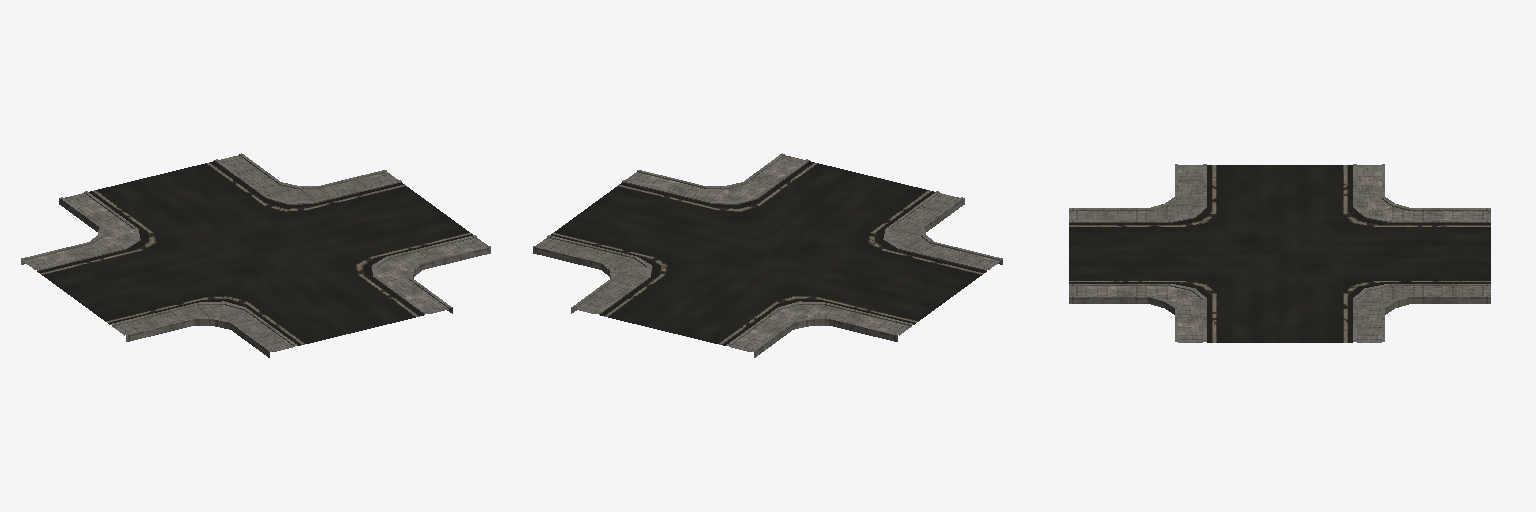
The picture shows the model from 3 angles: view 1: azimuth 30°, elevation 25°; view 2: azimuth 150°, elevation 25°; view 3: azimuth 270°, elevation 25°; orthographic projection.
Parts seen in each view (by area): view 1: 7_Road-Cross-A-B; view 2: 7_Road-Cross-A-B; view 3: 7_Road-Cross-A-B.
Boxes of the visible parts, box(x1,y1,x2,y2) form: 7_Road-Cross-A-B: box(21, 153, 490, 357); 7_Road-Cross-A-B: box(533, 153, 1002, 357); 7_Road-Cross-A-B: box(1069, 164, 1490, 342).
Size of the model in its own units: 1.24 by 0.0219 by 1.24.
1 materials, 1 textured.